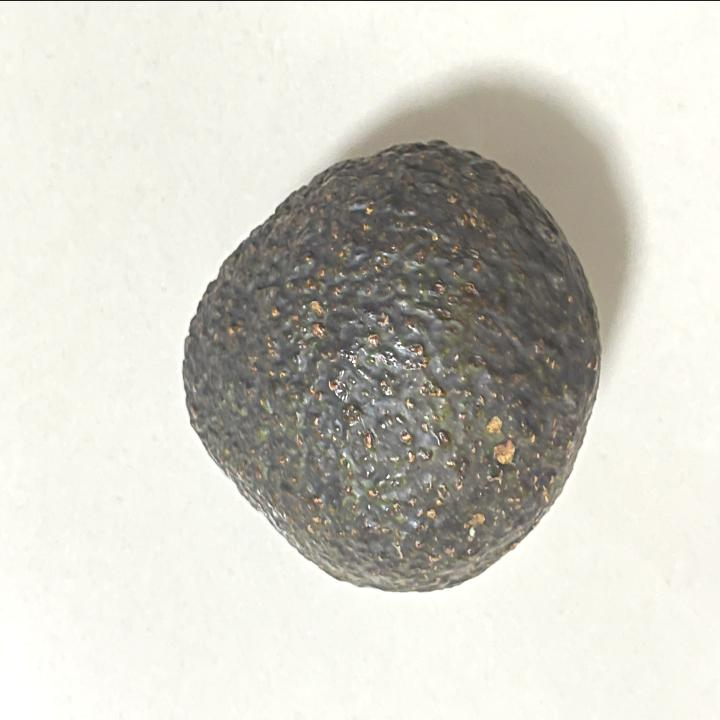Level2: (178, 133, 606, 600)
